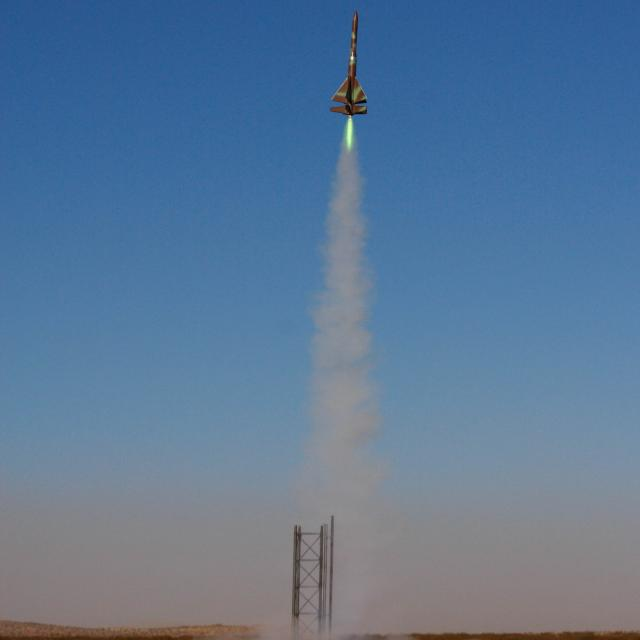Rocket: (329, 8, 369, 116)
